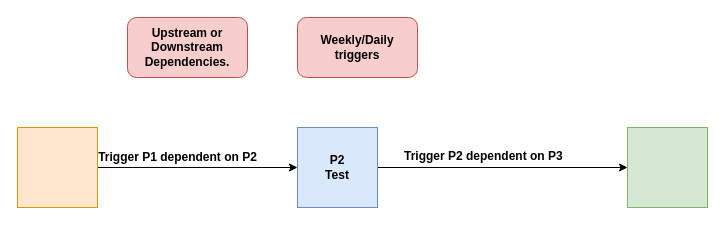
The diagram is 725 pixels wide and 225 high, and some of its shapes have lost their labels. The shapes that lost their labels are listed below. From the top down, each one's centre as x and y in pixels, then its label:
the point at 57,167: P1 Build
the point at 667,167: P3 Deploy
